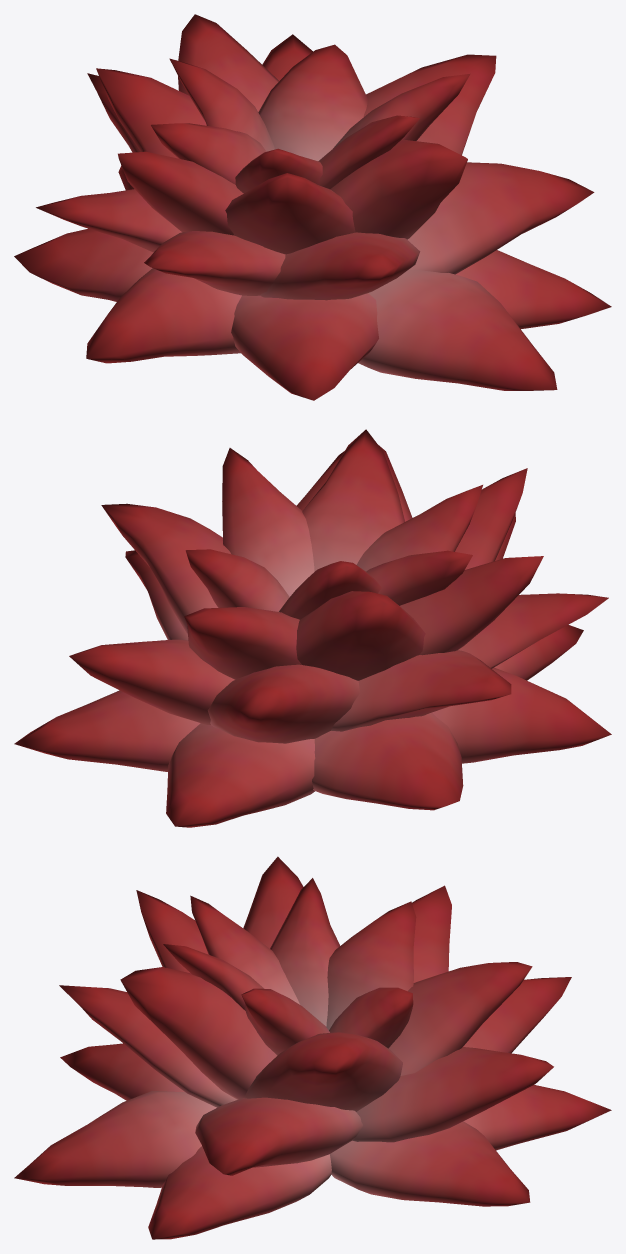
Rendered from M_Flower_01.fbx.
3 renders of one model, top to bottom at view 1: azimuth 30°, elevation 25°; view 2: azimuth 150°, elevation 25°; view 3: azimuth 270°, elevation 25°, orthographic. The views are drawn at different scales.
Parts seen in each view (by area): view 1: M_Flower_01; view 2: M_Flower_01; view 3: M_Flower_01.
Boxes of the visible parts, bbox=[...] form: M_Flower_01: bbox=[14, 14, 611, 400]; M_Flower_01: bbox=[14, 429, 611, 827]; M_Flower_01: bbox=[14, 856, 611, 1239].
Bounding box in the file's own units: 127 × 61.74 × 144.
1 material, 1 textured.
